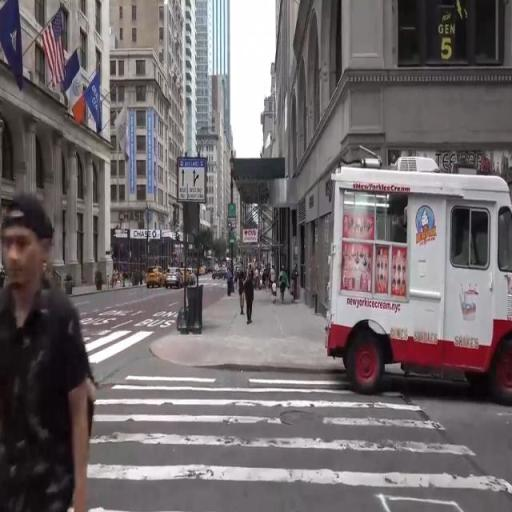person: (1, 182, 100, 512), (245, 264, 256, 321), (238, 262, 245, 319), (280, 267, 289, 304), (265, 261, 271, 295), (227, 267, 233, 298), (256, 264, 261, 295), (273, 282, 279, 307), (272, 264, 277, 286), (116, 266, 120, 283)
